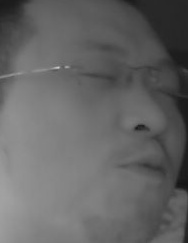blink: (82, 70, 113, 83)
glass: (77, 54, 134, 93)
mouth: (112, 148, 174, 181)
